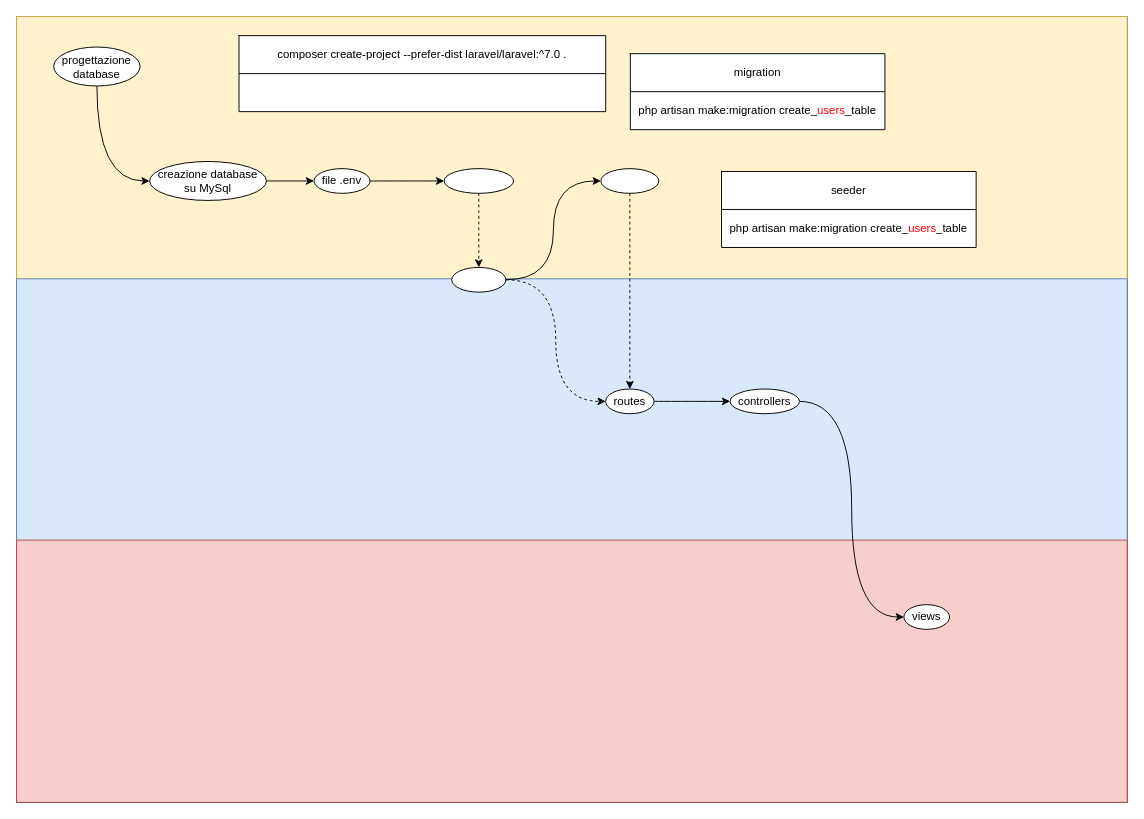
This 1144x819 diagram has some shape labels left out. The shapes that lost their labels are listed below. From the top down, each one's centre as x and y in pixels, then its label:
At (478,180): "migrations".
At (629,180): "seeders".
At (478,279): "models".
